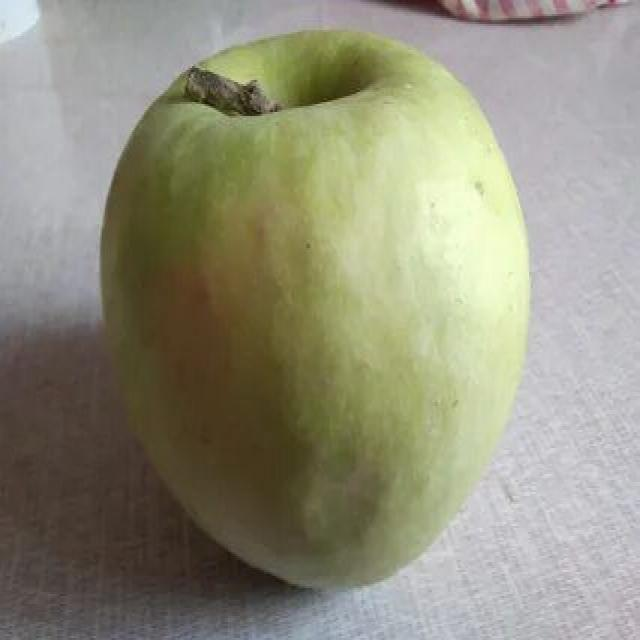Rotten: (115, 39, 532, 594)
